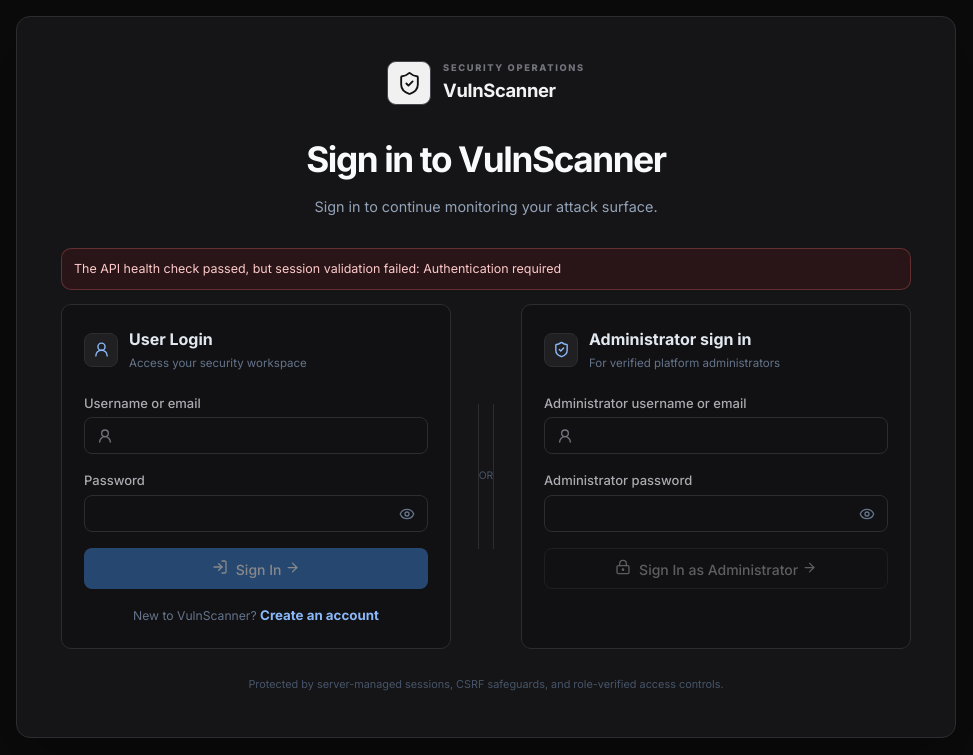
Test: Phase 15 authentication UI regression › shows the backend denial when a normal account uses administrator sign in
Type "ordinary-user" into the field labelled "Administrator username or email". click: (736, 436)
box: top-left (585, 418), bottom-right (887, 453)
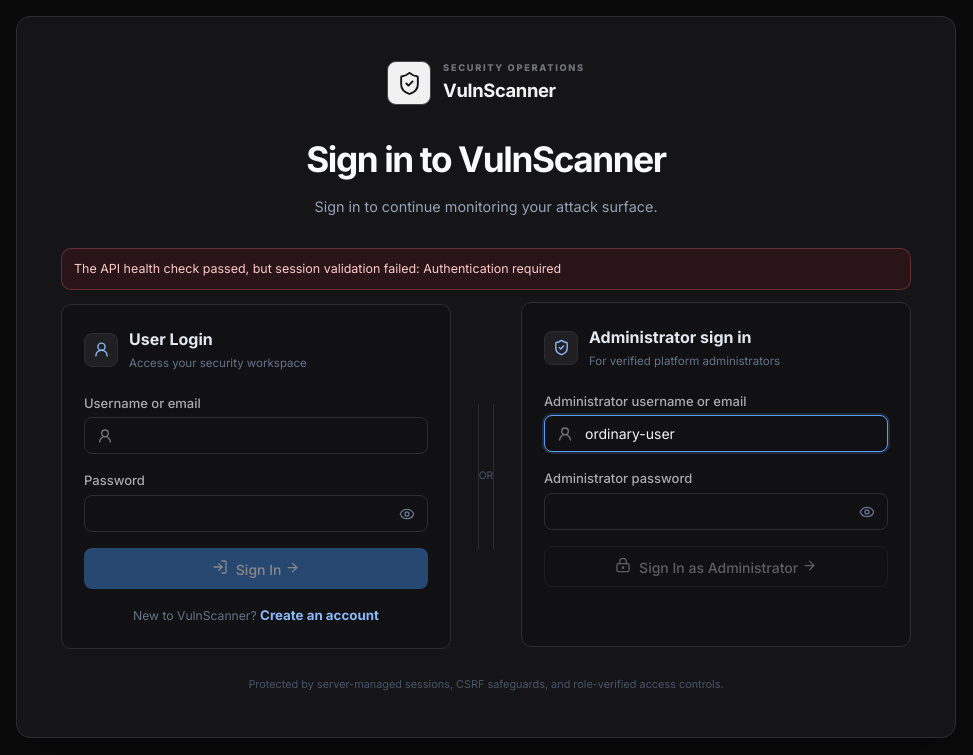
Type "StrongPassword!42" into the password field labelled "Administrator password". click: (696, 512)
box: top-left (545, 494), bottom-right (847, 529)
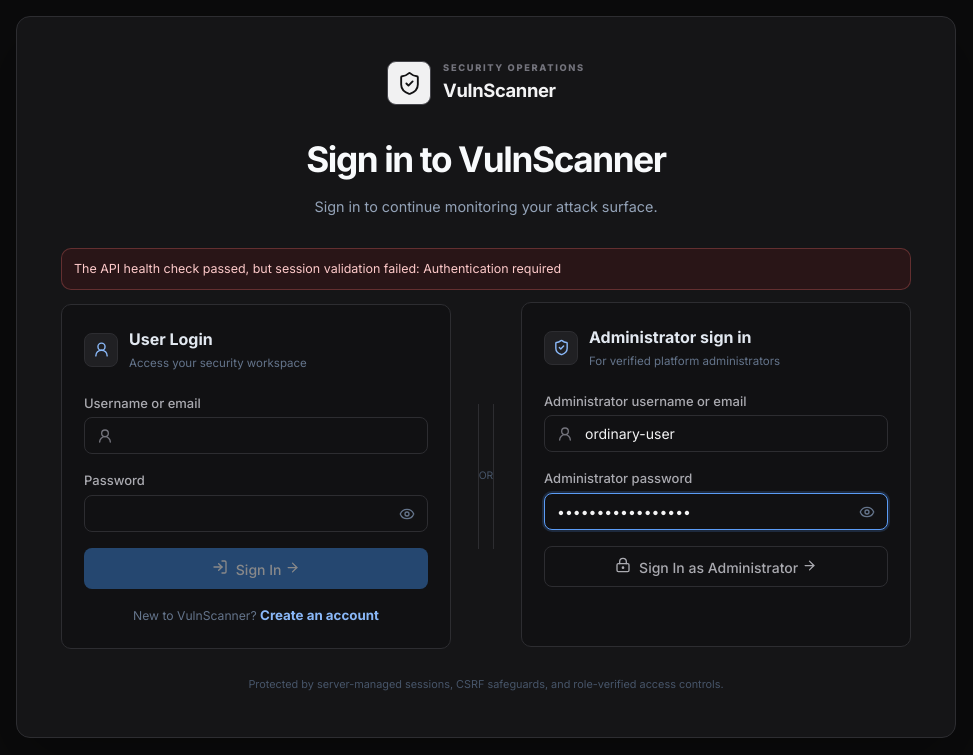
Click the button "Sign In as Administrator". click: (716, 567)
box: top-left (544, 546), bottom-right (888, 587)
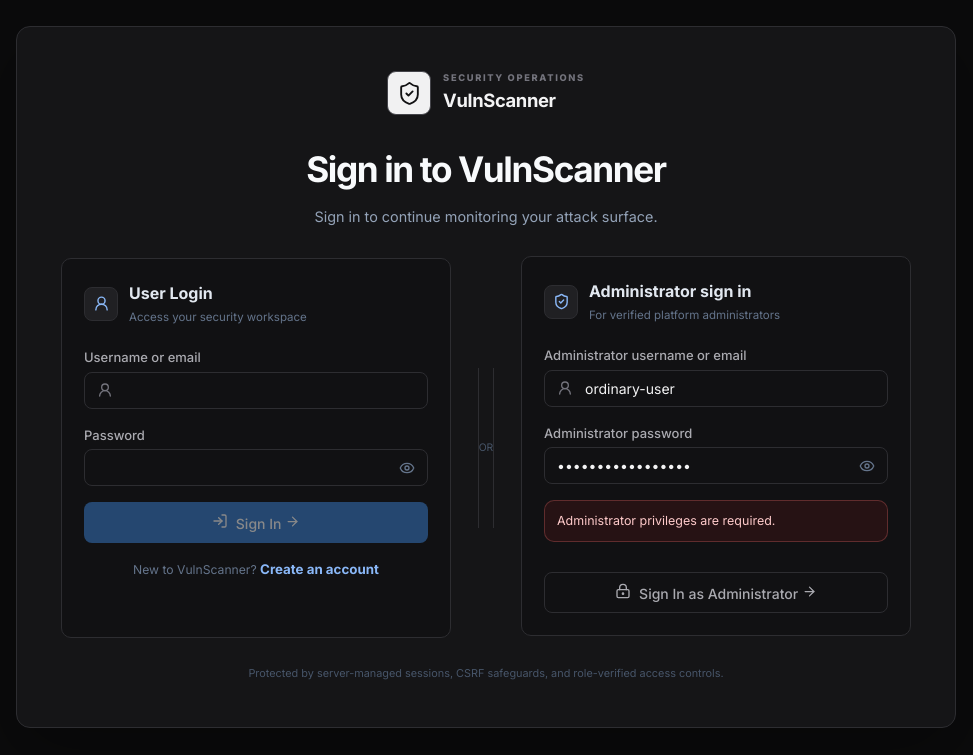
Expected: the message reads "Administrator privileges are required.", top-left (557, 513), bottom-right (775, 528)
